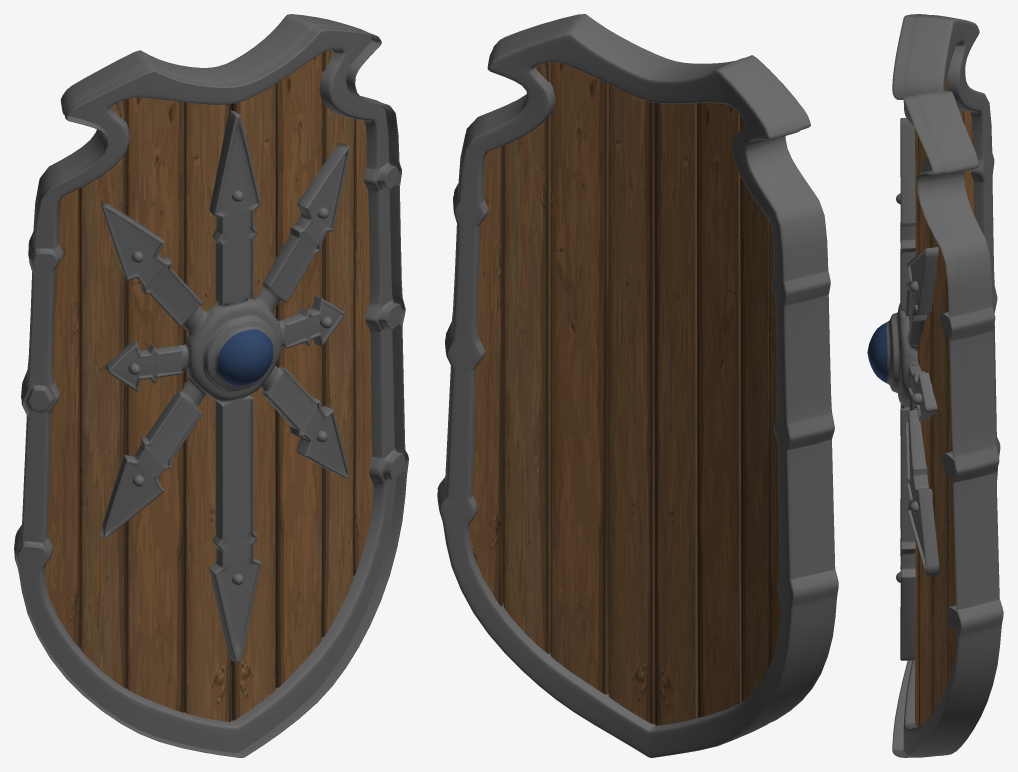
Rendered from shield-unity-1.fbx.
3 renders of one model, left to right at view 1: azimuth 30°, elevation 25°; view 2: azimuth 150°, elevation 25°; view 3: azimuth 270°, elevation 25°, orthographic. The views are drawn at different scales.
Visible parts, largest first — view 1: plank, border_shield, metal_defence; view 2: plank, border_shield; view 3: border_shield, metal_defence, plank.
Part boxes in pixels (x1,y1,x2,y2): plank: (45,50,373,721); border_shield: (14,14,408,757); metal_defence: (100,110,349,663); plank: (470,62,781,725); border_shield: (437,14,838,757); border_shield: (892,14,1003,757); metal_defence: (867,118,939,660); plank: (915,75,974,726).
Bounding box in the file's own units: 19.64 × 33.46 × 5.93.
Materials: 3 (1 with a texture image).
